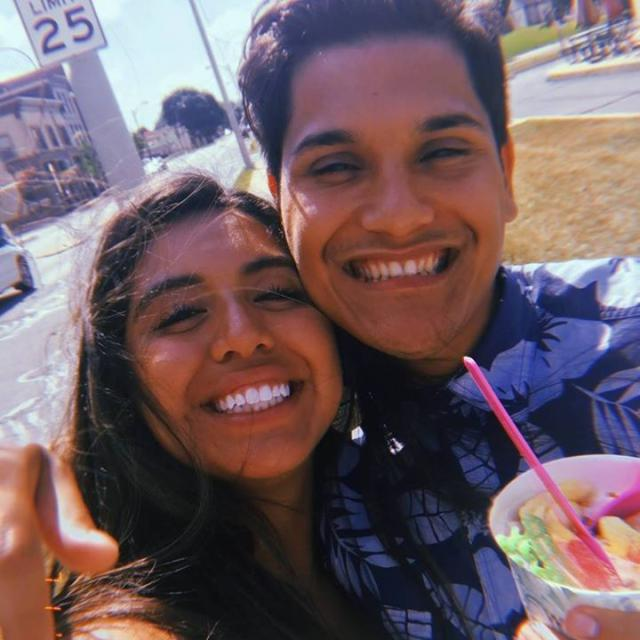adult: (247, 9, 640, 640), (0, 172, 341, 639)
